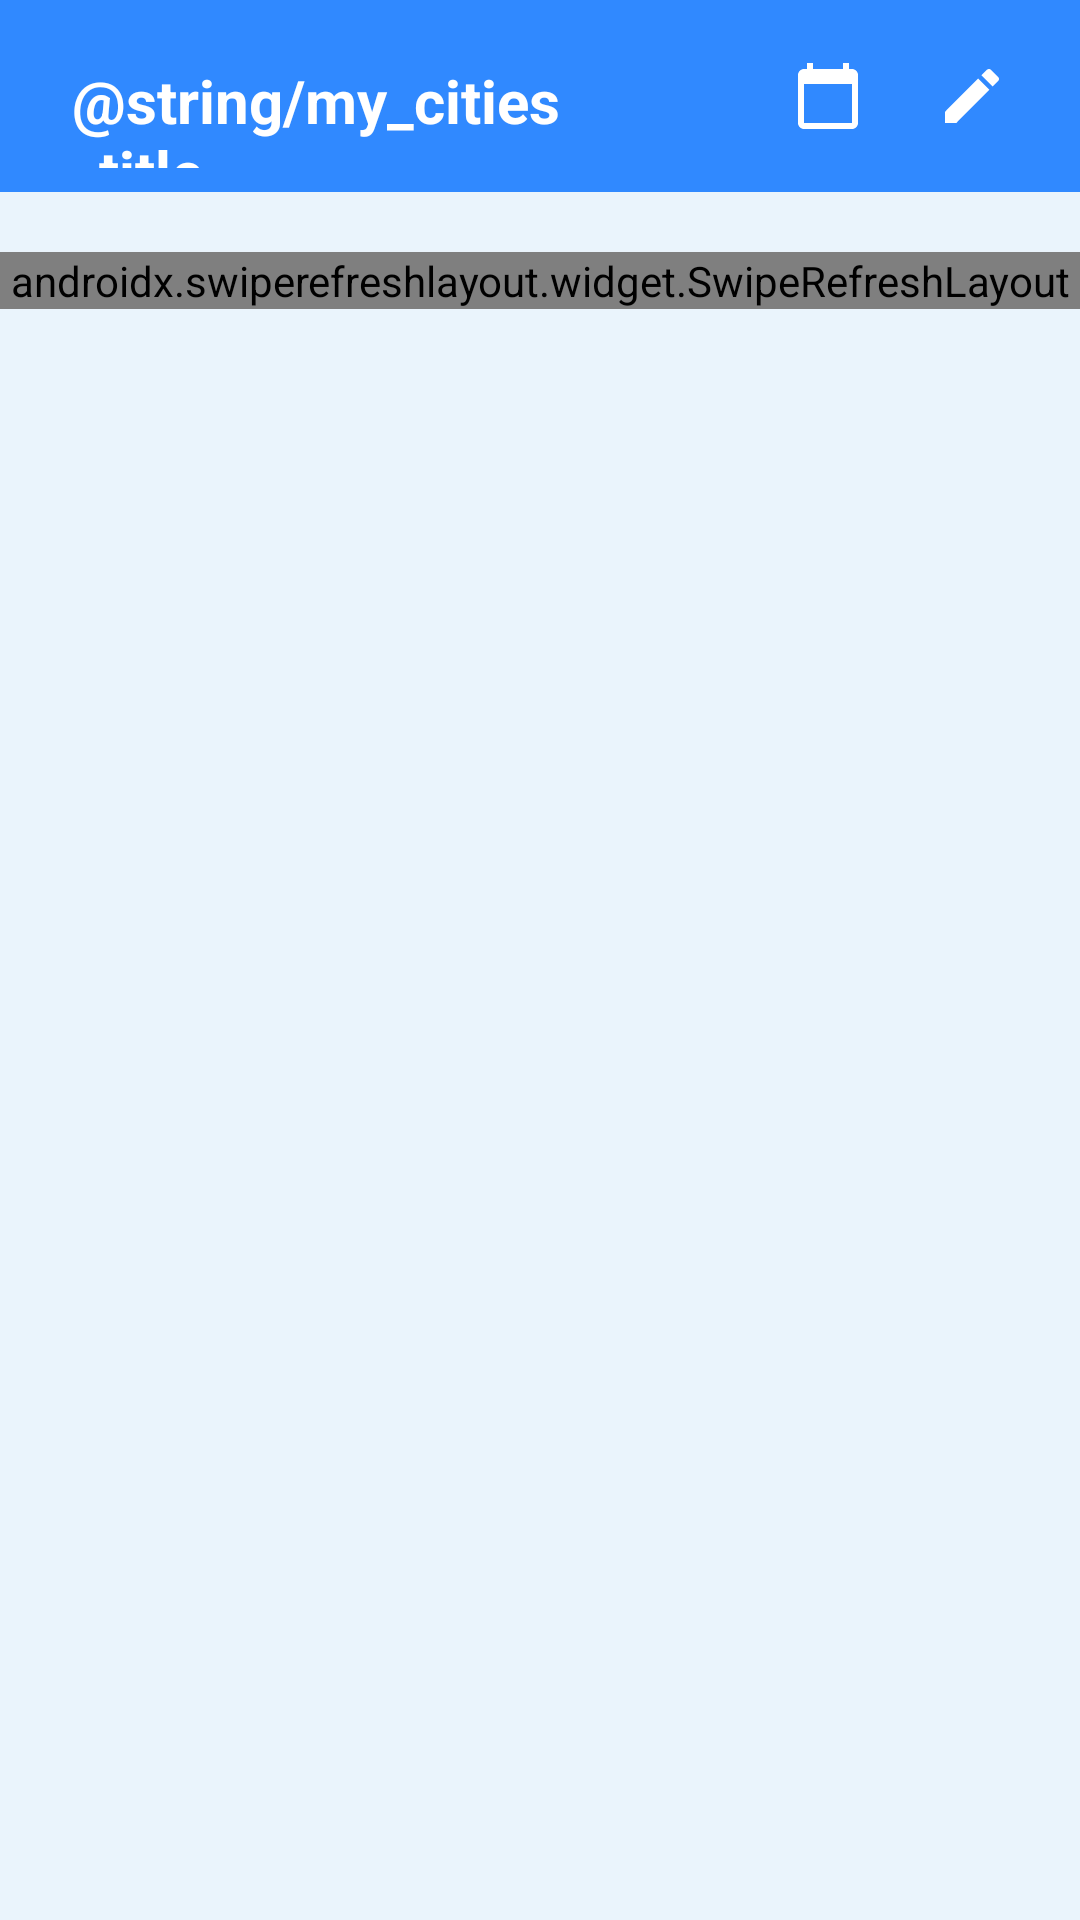

Screen size 1080*1920. Icon name, then its box in pixels as detection(x1, y1, x2, y2):
calendar: detection(798, 63, 858, 129)
edit: detection(945, 69, 999, 123)
